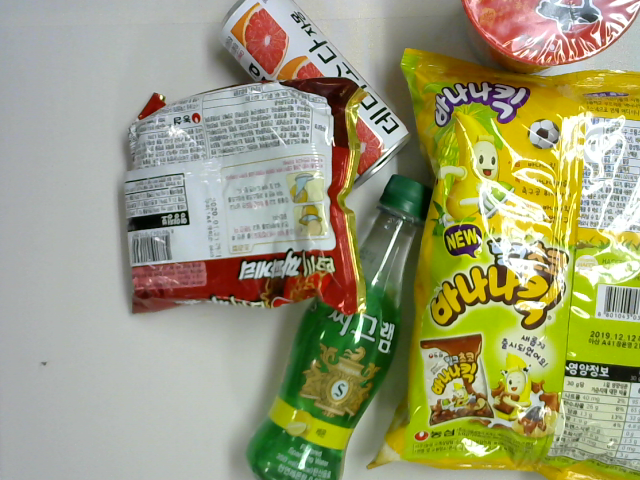Banana_Kick: (371, 44, 640, 478)
Demisoda_Grapefruit_Can_250ml: (215, 1, 414, 199)
Seagram_Lemon_Carbonated_Water: (247, 174, 432, 480)
Sichuan_Chapaghetti: (119, 75, 374, 321)
Sinramen_small: (458, 1, 640, 76)
